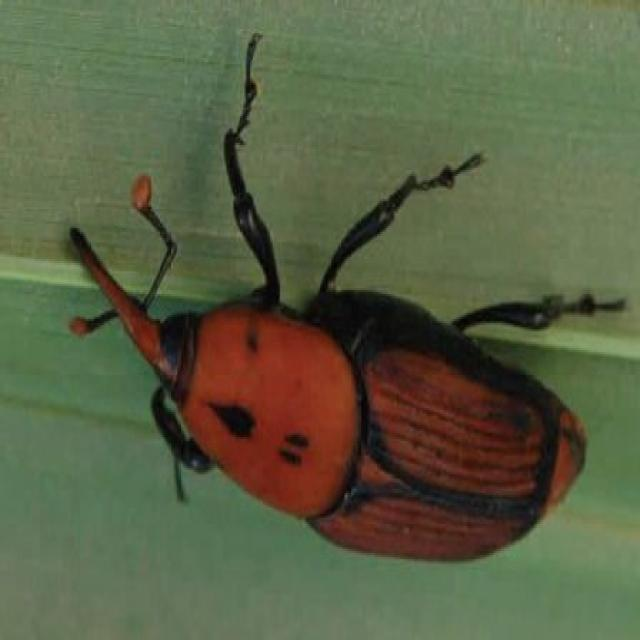Red-palm-weevil: (59, 171, 581, 567)
